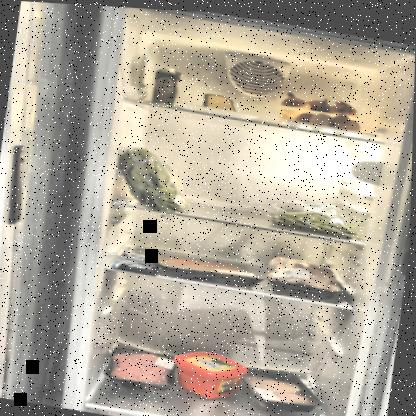beef: (148, 246, 269, 287)
butter: (167, 341, 253, 403)
cheese: (201, 88, 242, 115)
chicken: (236, 358, 330, 414), (260, 243, 350, 301)
chocolate: (111, 244, 163, 275)
eggs: (293, 102, 362, 132)
green_beans: (266, 195, 366, 236)
ground_beef: (104, 342, 184, 394)
heavy_cream: (151, 62, 182, 105)
onion: (274, 84, 359, 134)
spinach: (110, 141, 197, 216)
